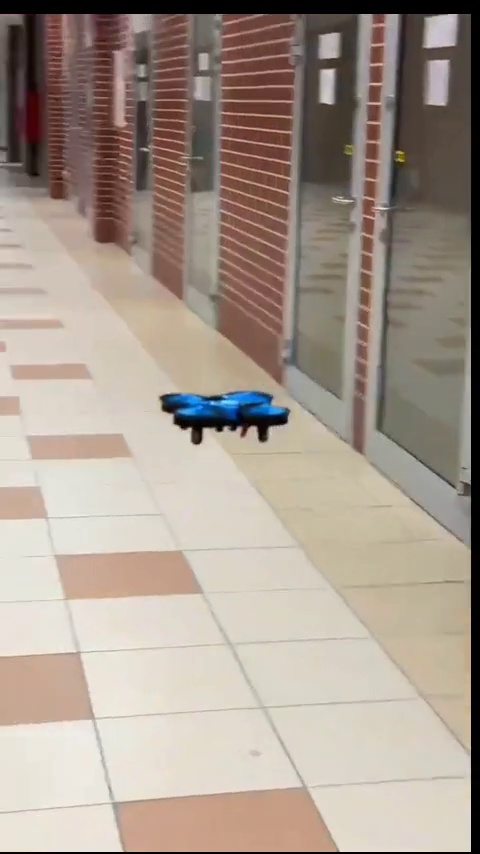drone: (157, 394, 295, 444)
